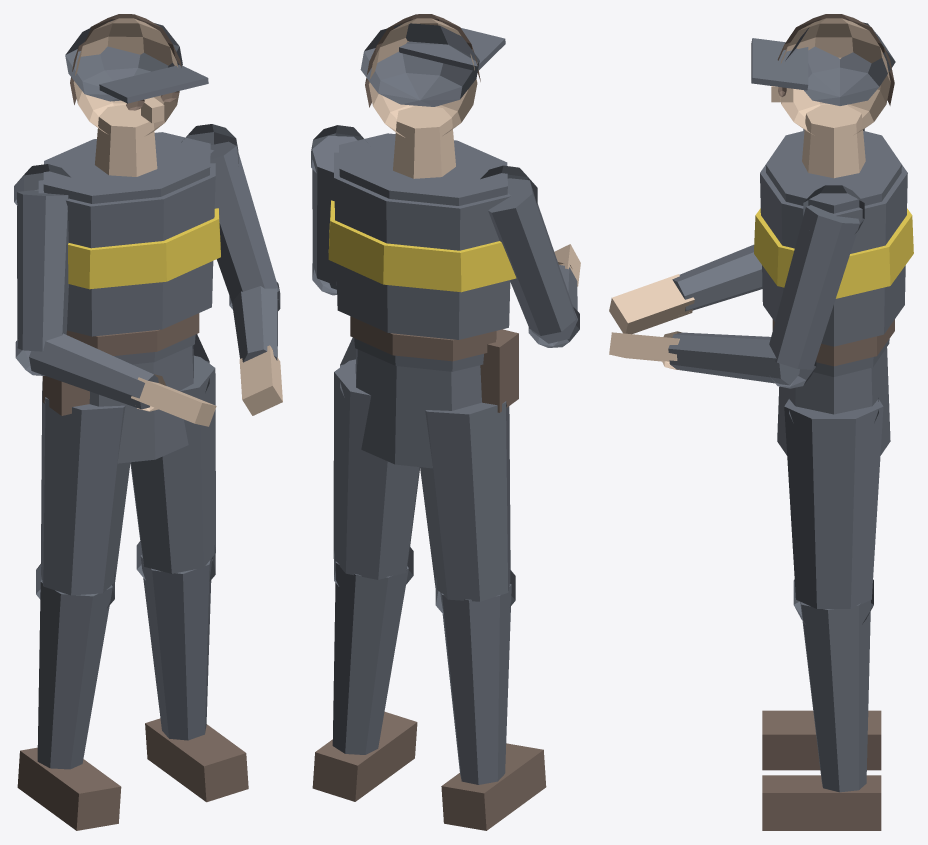
File: low-poly-character-figures-police-officer-standing-cedbbfb3.glb
The picture shows the model from 3 angles, left to right: view 1: azimuth 30°, elevation 25°; view 2: azimuth 150°, elevation 25°; view 3: azimuth 270°, elevation 25°; orthographic projection.
Parts seen in each view (by area): view 1: police-officer-standing; view 2: police-officer-standing; view 3: police-officer-standing.
Part boxes in pixels (<box>): police-officer-standing: <box>14,14,282,830</box>; police-officer-standing: <box>311,14,580,830</box>; police-officer-standing: <box>609,14,913,830</box>.
Size of the model in its own units: 0.6489 by 1.85 by 0.6607.
